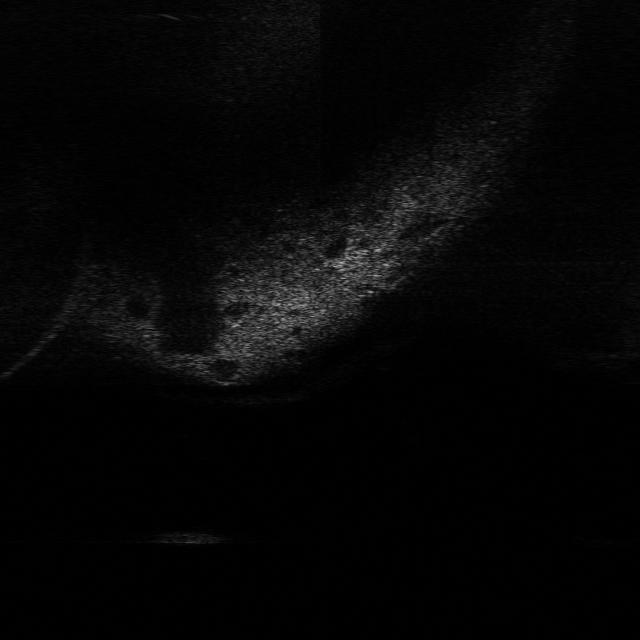cube: (152, 524, 228, 550)
